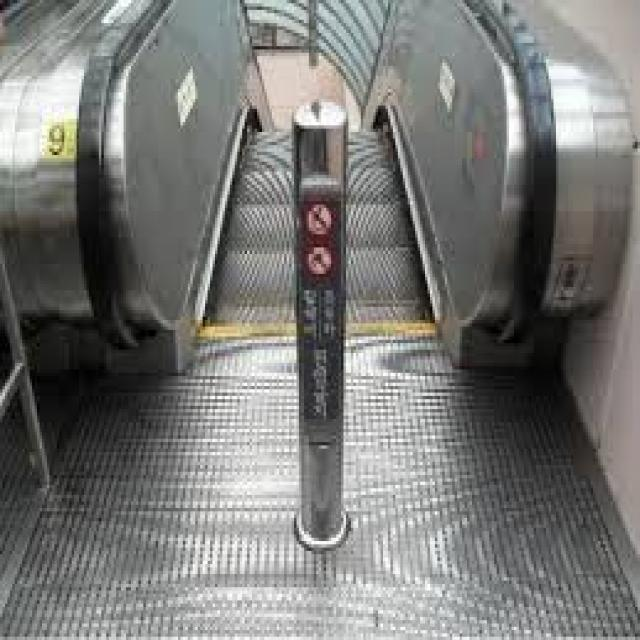bollard: (285, 84, 355, 562)
